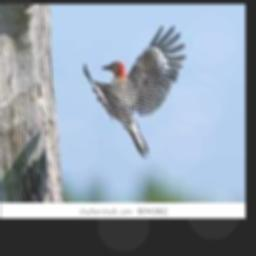Woodpecker: (83, 25, 187, 159)
